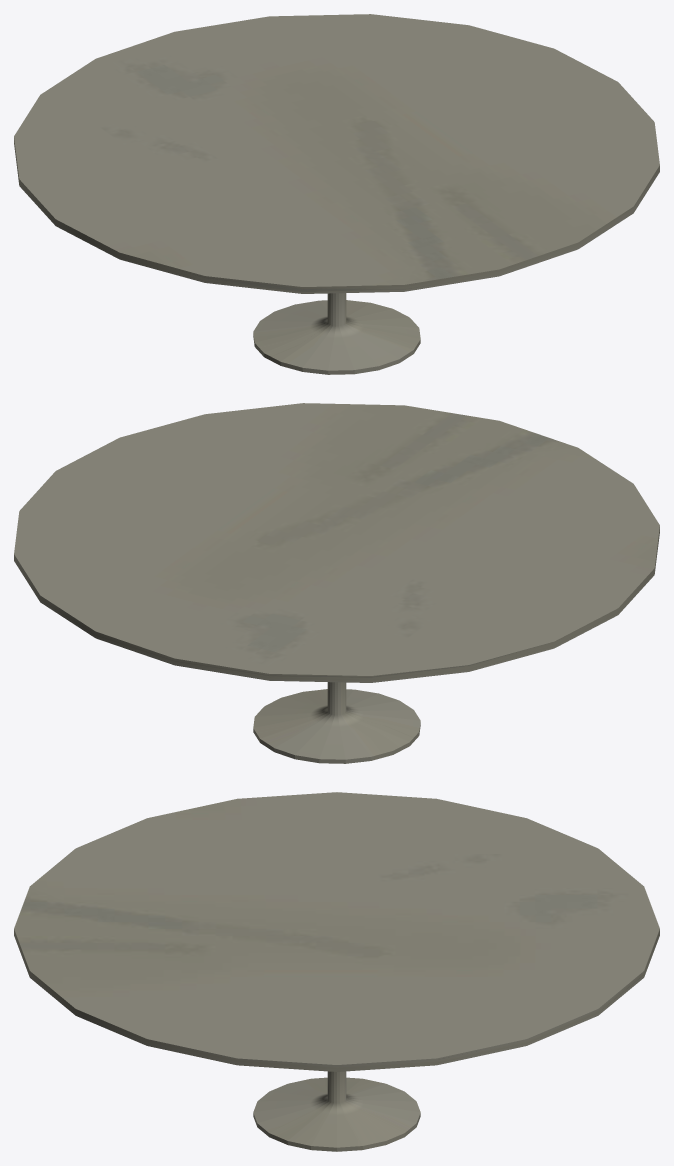
File: Desk.fbx
3 renders of one model, top to bottom at view 1: azimuth 30°, elevation 25°; view 2: azimuth 150°, elevation 25°; view 3: azimuth 270°, elevation 25°, orthographic.
Parts seen in each view (by area): view 1: pCylinder1; view 2: pCylinder1; view 3: pCylinder1.
Boxes of the visible parts, x1,y1,x2,y2 form: pCylinder1: (14, 14, 659, 374); pCylinder1: (14, 403, 659, 763); pCylinder1: (14, 792, 659, 1151).
Size of the model in its own units: 61.22 by 19.64 by 61.22.
1 material, 1 textured.
